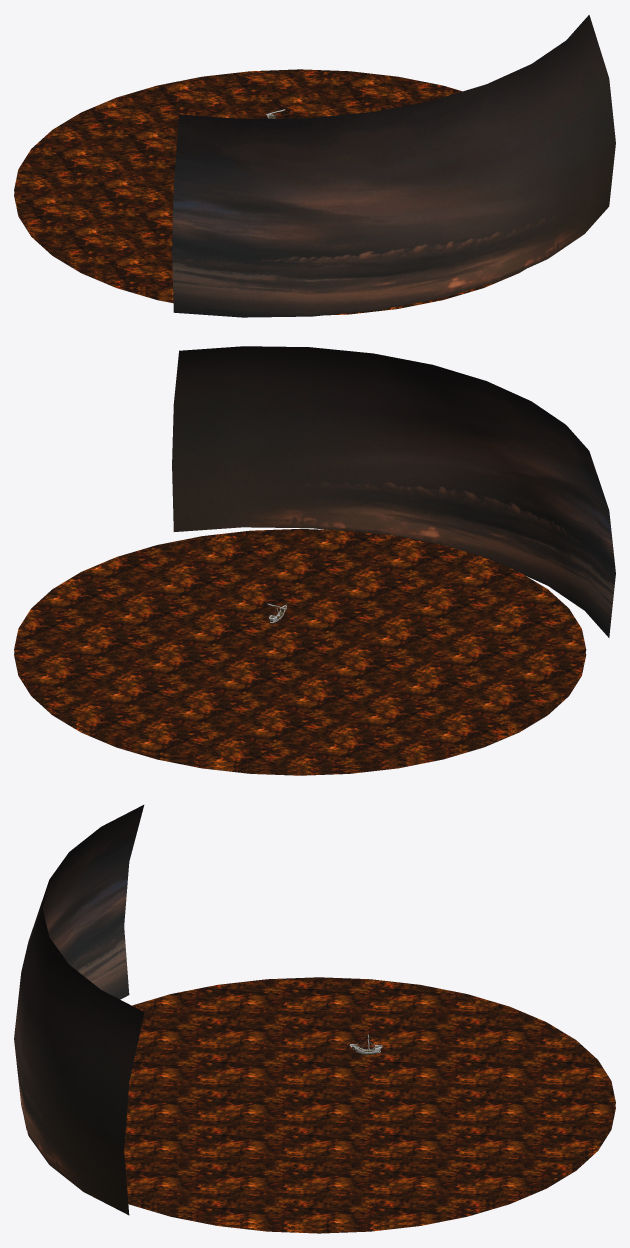
The model's file is denglu_001.FBX.
3 renders of one model, top to bottom at view 1: azimuth 30°, elevation 25°; view 2: azimuth 150°, elevation 25°; view 3: azimuth 270°, elevation 25°, orthographic. The views are drawn at different scales.
Parts seen in each view (by area): view 1: tiankong_001, shuimian_001, shuimian_002; view 2: shuimian_001, tiankong_001, shuimian_002; view 3: shuimian_001, tiankong_001, shuimian_002.
Boxes of the visible parts, bbox=[...] form: tiankong_001: bbox=[172, 15, 615, 317]; shuimian_001: bbox=[14, 69, 462, 297]; shuimian_002: bbox=[14, 193, 525, 315]; shuimian_001: bbox=[14, 529, 586, 770]; tiankong_001: bbox=[172, 346, 615, 637]; shuimian_002: bbox=[14, 652, 586, 775]; shuimian_001: bbox=[124, 977, 615, 1228]; tiankong_001: bbox=[14, 805, 144, 1215]; shuimian_002: bbox=[24, 1106, 615, 1233].
Size of the model in its own units: 29117 by 10804 by 29511.
